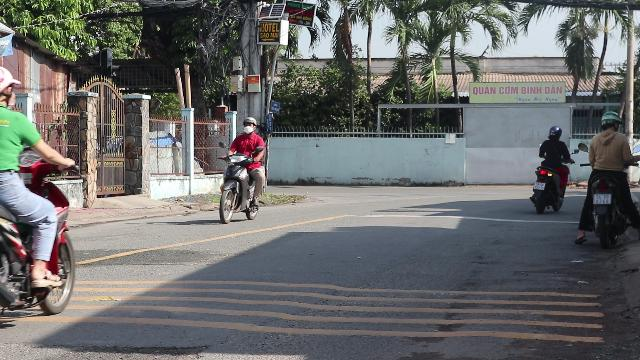helmet: (598, 110, 622, 132), (241, 116, 257, 134)
licenseplate: (593, 194, 611, 204)
motorcyclist: (576, 110, 640, 246), (217, 116, 269, 224)
